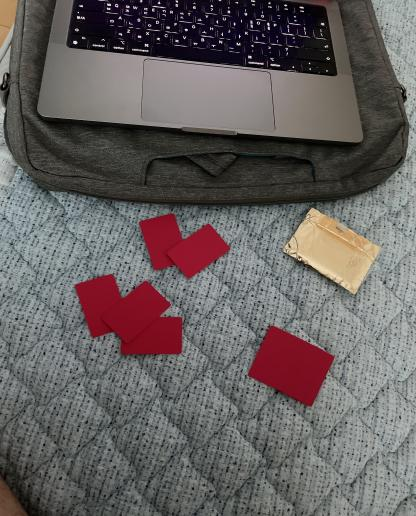ThreeHwatoo: (67, 270, 189, 366)
